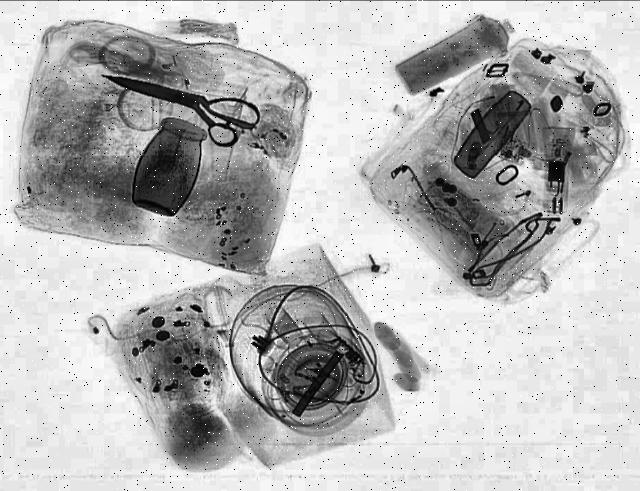Scissors: (88, 54, 270, 152)
